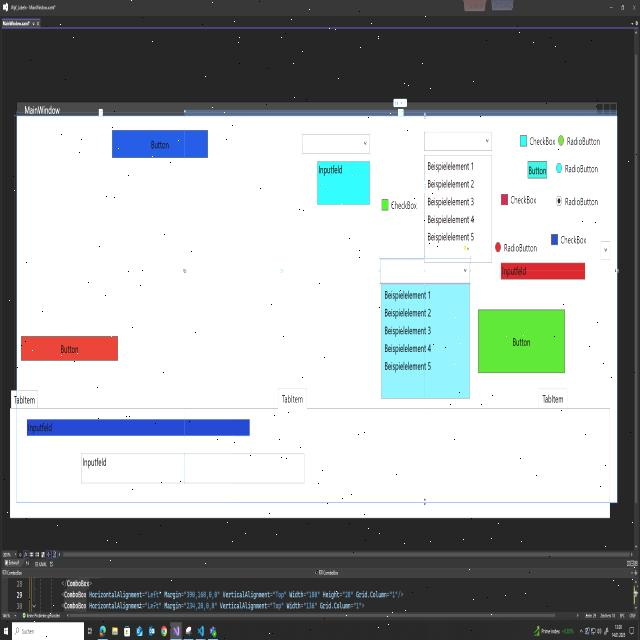button: (476, 306, 566, 376), (110, 124, 210, 163), (19, 332, 121, 366), (525, 157, 549, 182)
checkbox: (381, 198, 389, 211), (501, 193, 508, 206), (551, 233, 558, 246), (520, 134, 527, 147)
dropdownMenu: (379, 255, 471, 401), (423, 130, 493, 264), (301, 133, 371, 155), (600, 239, 612, 262)
input: (80, 450, 306, 488), (26, 417, 250, 439), (316, 158, 371, 208), (499, 260, 587, 282)
label: (504, 242, 538, 254), (566, 136, 600, 147), (565, 163, 599, 174), (565, 196, 598, 207), (390, 199, 418, 211), (529, 136, 556, 147), (510, 194, 537, 205), (560, 235, 587, 245)
menuItem: (383, 307, 432, 319), (427, 231, 475, 243), (384, 324, 432, 336), (384, 289, 432, 301), (427, 196, 474, 208), (384, 342, 431, 354), (428, 214, 474, 226), (428, 161, 474, 173), (427, 178, 475, 189), (384, 361, 432, 372)
radio: (494, 240, 502, 254), (555, 162, 563, 174), (556, 194, 562, 207), (558, 134, 564, 146)
tabControl: (276, 384, 308, 414), (536, 385, 570, 413), (9, 386, 40, 412)
